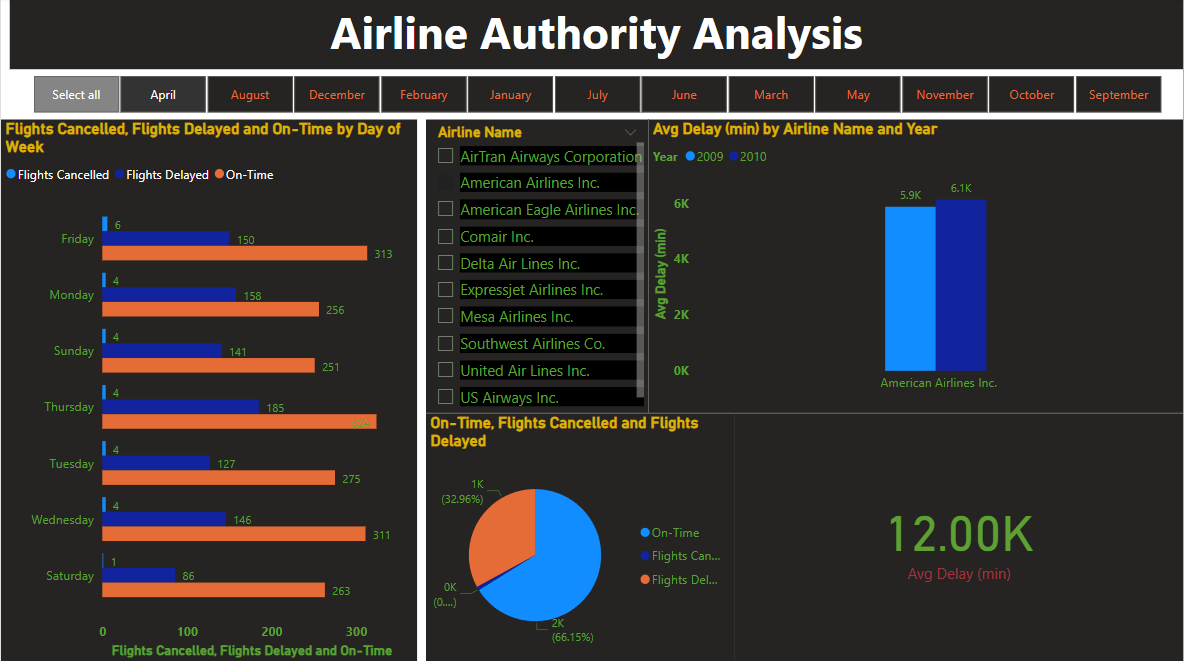

The dashboard page shown, as its layout file describes it:
{"tool":"powerbi","page":{"name":"Page 1","canvas":[1280,720],"ordinal":0},"visuals":[{"type":"textbox","box":[9.6,0,1270.4,78.2],"z":0},{"type":"slicer","fields":{"Values":["Sheet1.Month"]},"box":[9.6,78.2,1270.4,53.5],"z":1000},{"type":"clusteredBarChart","fields":{"Category":["Sheet1.Day of Week"],"Y":["Sum(Sheet1.Flights Cancelled)","Sum(Sheet1.Flights Delayed)","Sum(Sheet1.On-Time)"]},"box":[0,132.6,450.6,587.2],"z":2000},{"type":"slicer","fields":{"Values":["Sheet1.Airline Name"]},"box":[460,132.6,240.8,318],"z":3000},{"type":"pieChart","fields":{"Y":["Sum(Sheet1.On-Time)","Sum(Sheet1.Flights Cancelled)","Sum(Sheet1.Flights Delayed)"]},"box":[460,450.6,334.2,269.3],"z":4000},{"type":"clusteredColumnChart","fields":{"Category":["Sheet1.Airline Name"],"Y":["Sum(Sheet1.Avg Delay (min))"],"Series":["Sheet1.Year"]},"box":[700.9,132.6,579.1,318],"z":5000},{"type":"card","fields":{"Values":["Sum(Sheet1.Avg Delay (min))"]},"box":[794,451,486,269],"z":6000}]}

Visuals, with their boxes in screenshot pixels (x1, y1, x2, y2), scaled from the page's 1280x720 canvas onto the 1184x661 screenshot:
textbox: x1=9, y1=0, x2=1183, y2=72
slicer - Sheet1.Month: x1=9, y1=72, x2=1183, y2=121
clusteredBarChart - Sheet1.Day of Week x Sum(Sheet1.Flights Cancelled): x1=0, y1=122, x2=417, y2=660
slicer - Sheet1.Airline Name: x1=426, y1=122, x2=648, y2=414
pieChart - Sum(Sheet1.On-Time) x Sum(Sheet1.Flights Cancelled): x1=426, y1=414, x2=735, y2=660
clusteredColumnChart - Sheet1.Airline Name x Sum(Sheet1.Avg Delay (min)): x1=648, y1=122, x2=1183, y2=414
card - Sum(Sheet1.Avg Delay (min)): x1=734, y1=414, x2=1183, y2=660
